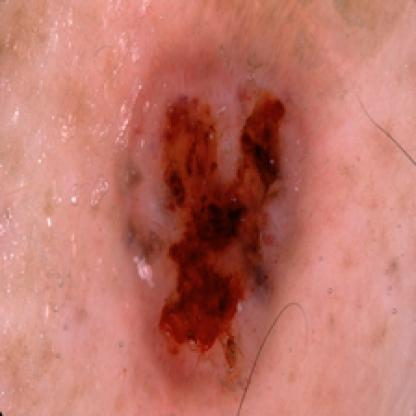malignant: (126, 70, 320, 372)
